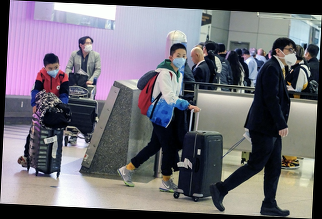with_mask: (283, 46, 298, 66), (172, 52, 187, 69), (45, 65, 60, 80), (82, 40, 93, 53)
